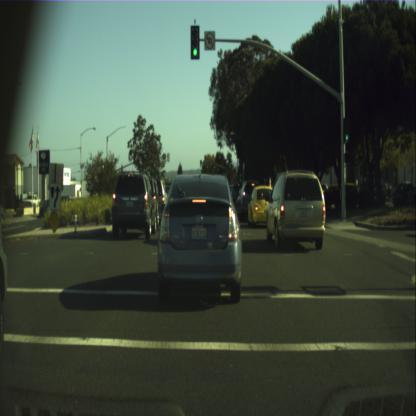Green: (190, 24, 200, 60), (344, 116, 350, 144), (213, 160, 216, 170), (200, 160, 202, 166)
